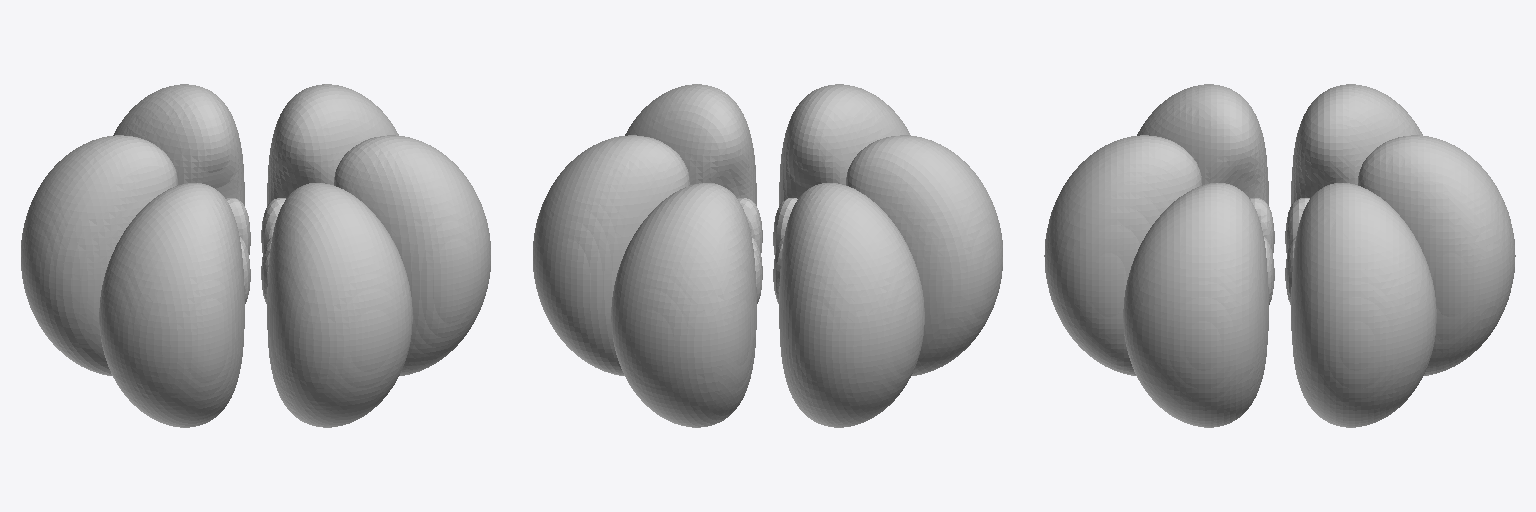
The model's file is orb_n=5_ l=3 _m=-3.obj.
3 renders of one model, left to right at view 1: azimuth 30°, elevation 25°; view 2: azimuth 150°, elevation 25°; view 3: azimuth 270°, elevation 25°, orthographic.
Parts seen in each view (by area): view 1: orb_n=5__l=3__m=-3; view 2: orb_n=5__l=3__m=-3; view 3: orb_n=5__l=3__m=-3.
Part boxes in pixels (left/top/right/bottom): orb_n=5__l=3__m=-3: left=21, top=84, right=490, bottom=427; orb_n=5__l=3__m=-3: left=533, top=84, right=1002, bottom=427; orb_n=5__l=3__m=-3: left=1044, top=84, right=1515, bottom=427.
Size of the model in its own units: 101 by 60.36 by 110.